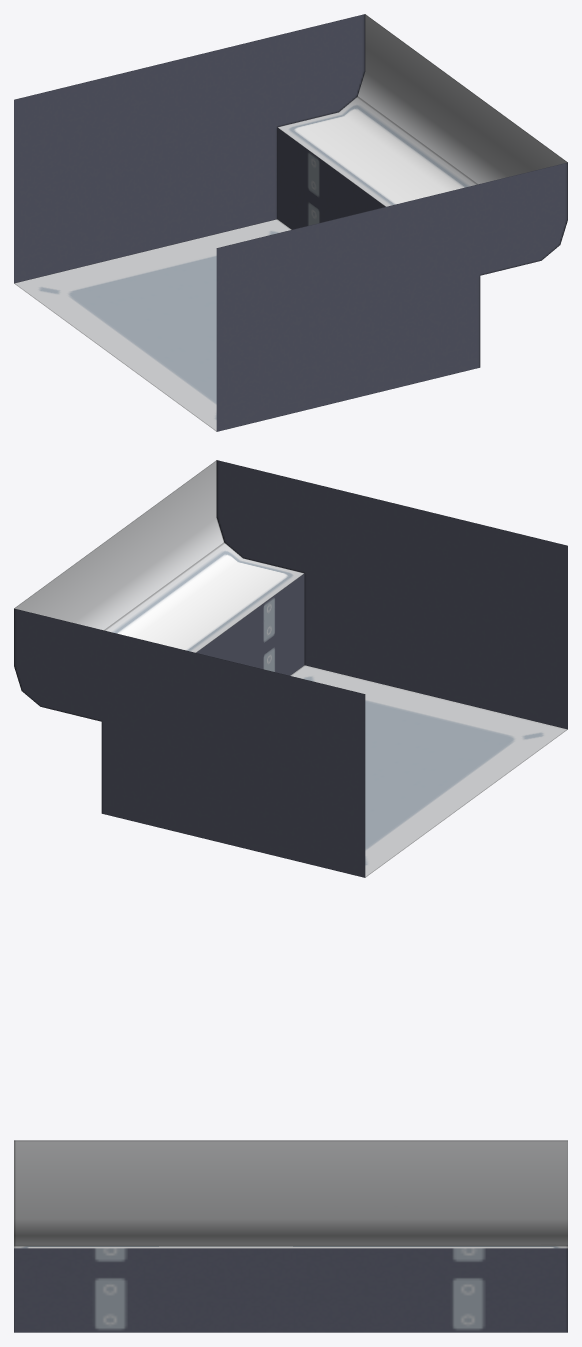
File: Floor_Border_Line_02_B.FBX
3 views of the same model, one above another, from view 1: azimuth 30°, elevation 25°; view 2: azimuth 150°, elevation 25°; view 3: azimuth 270°, elevation 25° (orthographic). The views are drawn at different scales.
Visible parts, largest first — view 1: Floor_Border_Line_02_B; view 2: Floor_Border_Line_02_B; view 3: Floor_Border_Line_02_B.
Part boxes in pixels (left/top/right/bottom): Floor_Border_Line_02_B: left=14, top=14, right=567, bottom=431; Floor_Border_Line_02_B: left=14, top=460, right=567, bottom=877; Floor_Border_Line_02_B: left=14, top=1140, right=567, bottom=1332.
Size of the model in its own units: 2 by 1 by 2.
